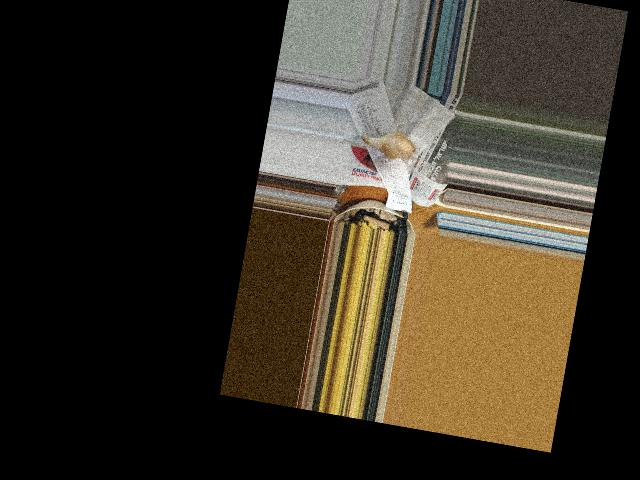onion: (377, 133, 416, 160)
